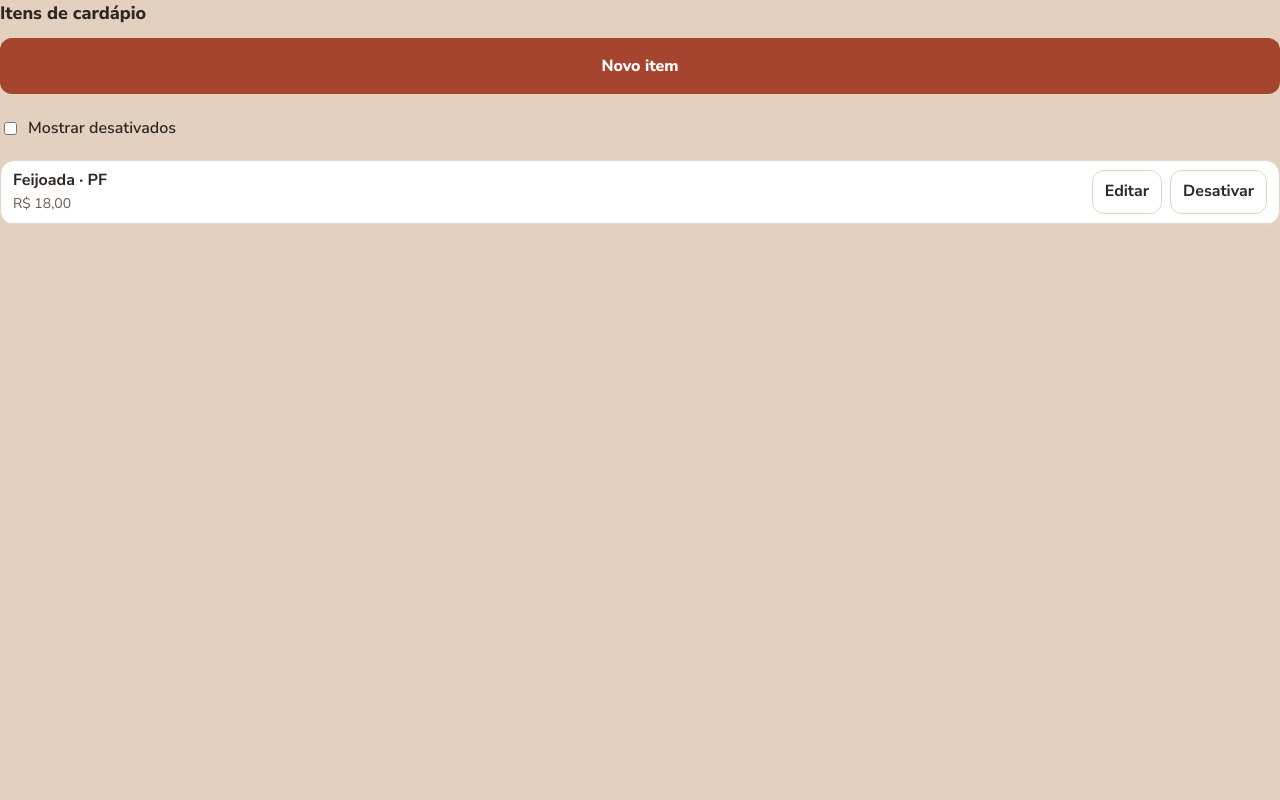
UI-11 — itens de cardápio › edição de item só altera preço
Click the button "Editar": point(1127, 192) [1092, 170, 1162, 214]
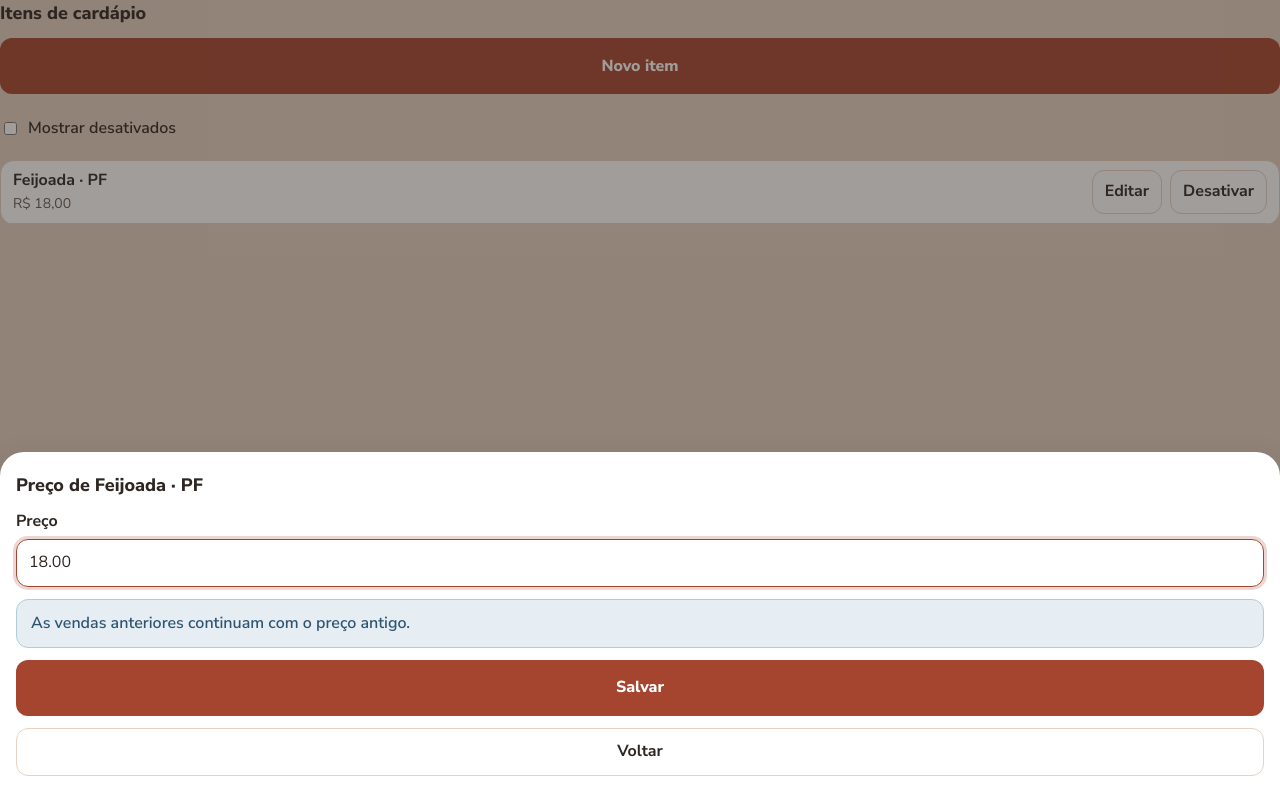
Check: the field labelled "Preço" is shown, box [16, 539, 1264, 587]
Check: the text "As vendas anteriores continuam com o preço antigo." is shown, box [16, 599, 1264, 648]
